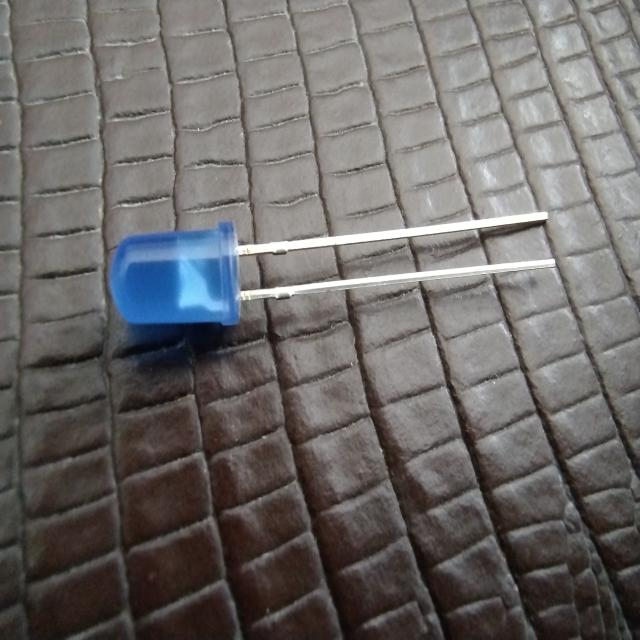blue_led: (108, 220, 241, 328)
